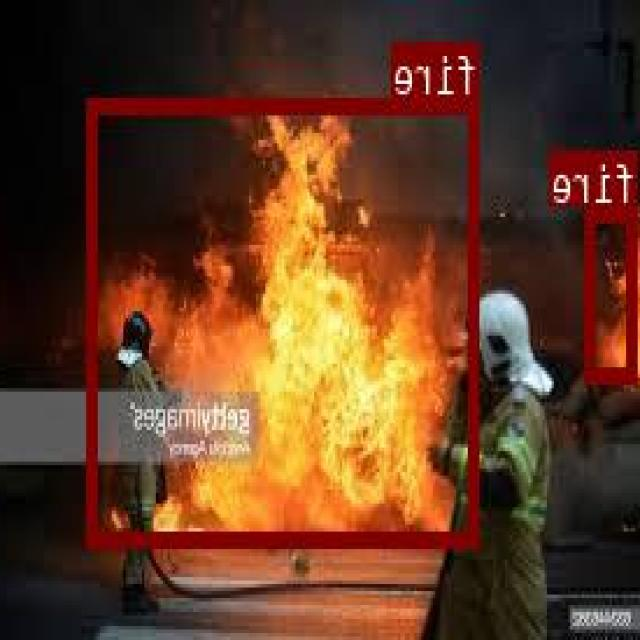fire: (89, 96, 480, 545), (587, 206, 639, 380)
